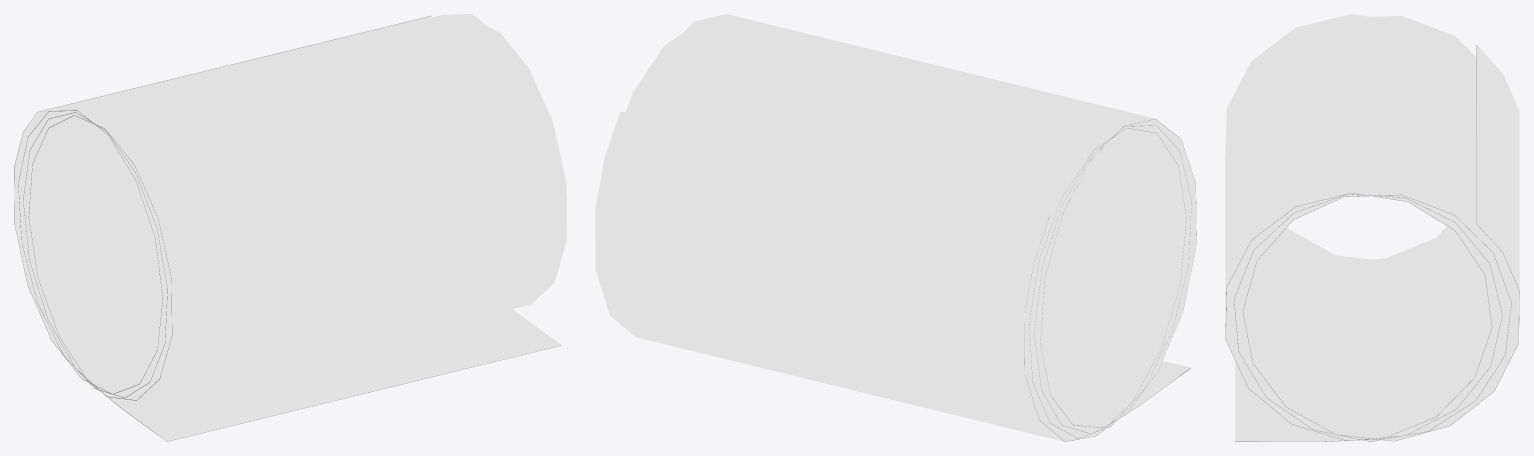
File: Level 186.fbx
The picture shows the model from 3 angles, left to right: view 1: azimuth 30°, elevation 25°; view 2: azimuth 150°, elevation 25°; view 3: azimuth 270°, elevation 25°; orthographic projection. The views are drawn at different scales.
Visible parts, largest first — view 1: Blend; view 2: Blend; view 3: Blend.
Boxes of the visible parts, x1,y1,x2,y2 form: Blend: (14, 14, 566, 441); Blend: (595, 14, 1196, 441); Blend: (1225, 14, 1519, 441).
Size of what is drawn, in the model's own units: 140 by 90.93 by 97.32.
